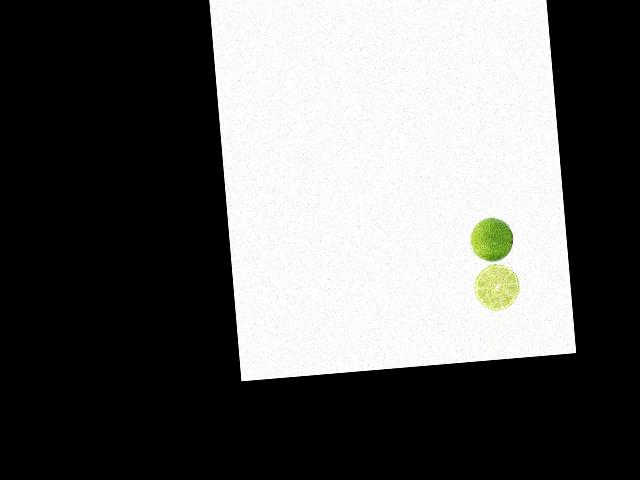lemon: (469, 216, 517, 262)
